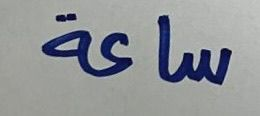ain: (98, 28, 137, 80)
alef: (154, 12, 176, 88)
seen: (178, 42, 234, 87)
teh_marbota: (38, 7, 96, 81)
